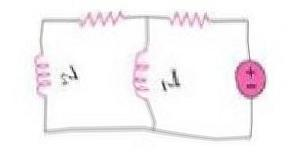Battery: (227, 52, 275, 103)
